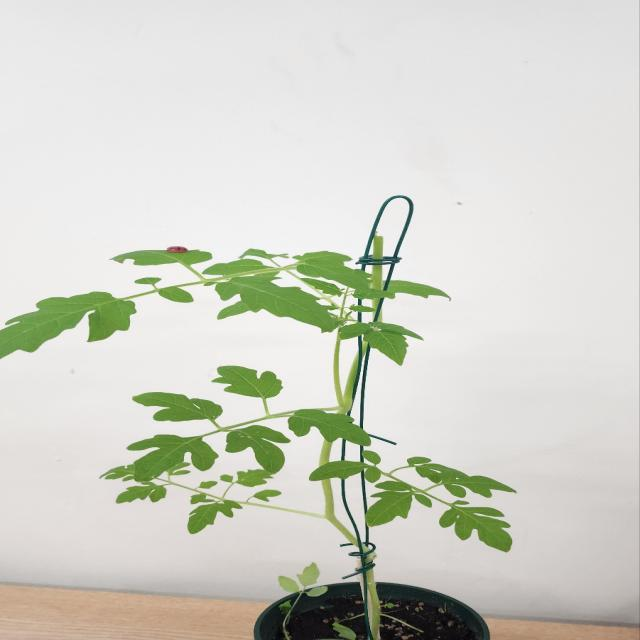bug: (151, 241, 197, 260)
